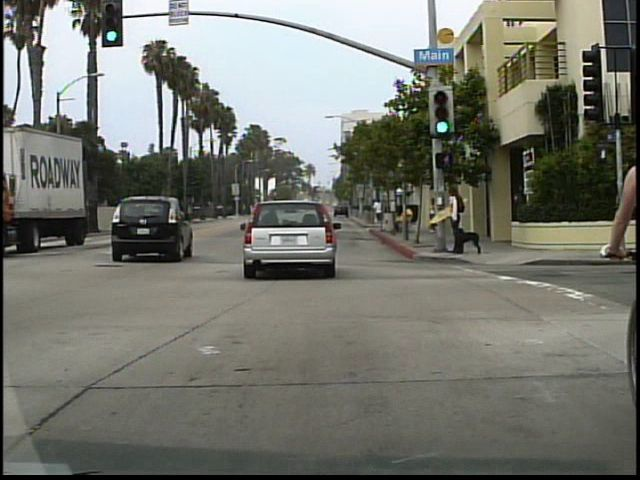person: (446, 184, 469, 252), (374, 196, 386, 228)
